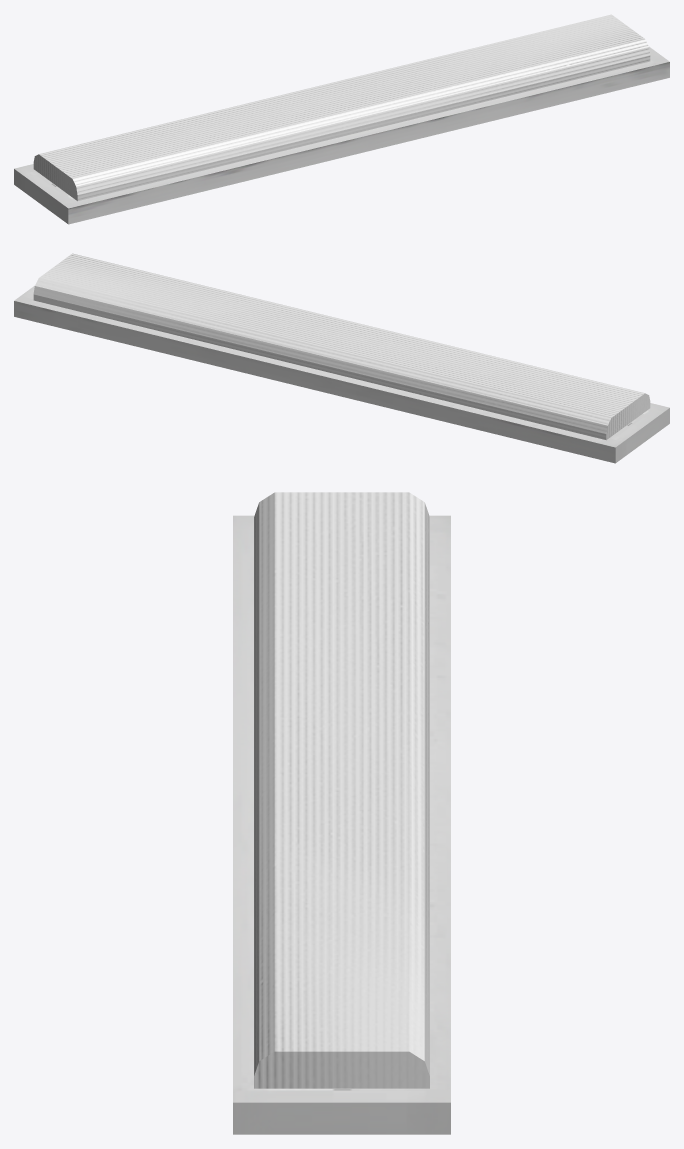
The model's file is LightLum01_03.FBX.
3 renders of one model, top to bottom at view 1: azimuth 30°, elevation 25°; view 2: azimuth 150°, elevation 25°; view 3: azimuth 270°, elevation 25°, orthographic. The views are drawn at different scales.
Visible parts, largest first — view 1: Light1On; view 2: Light1On; view 3: Light1On.
Boxes of the visible parts, left/top/right/bottom form: Light1On: left=14, top=14, right=669, bottom=224; Light1On: left=14, top=253, right=669, bottom=463; Light1On: left=233, top=492, right=450, bottom=1134.
Size of the model in its own units: 81.4 by 4.47 by 12.77.
